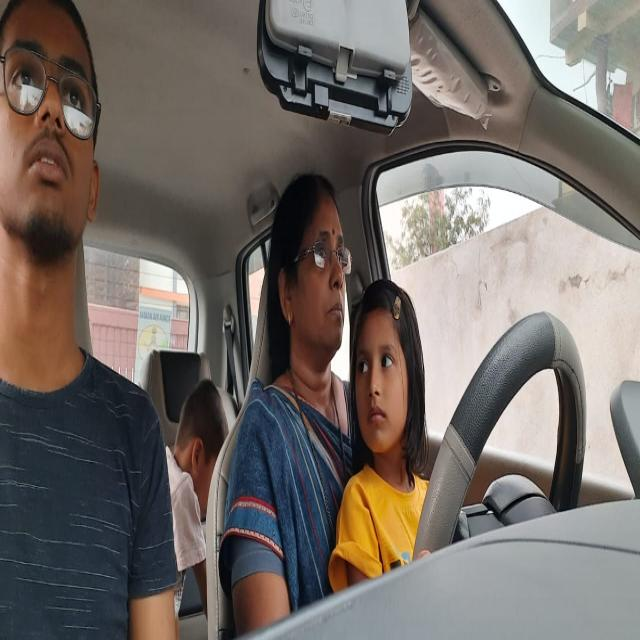child: (356, 279, 421, 480)
person: (1, 1, 103, 278), (264, 169, 352, 389), (176, 372, 228, 507)
